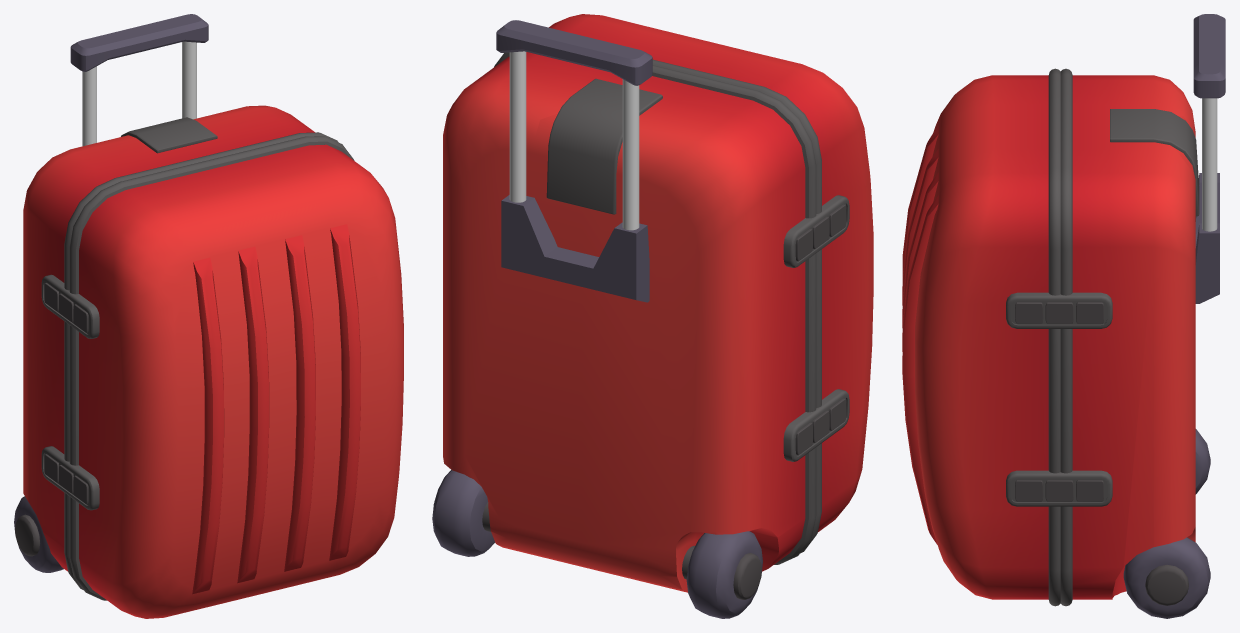
File: Baggage_Red.fbx
The picture shows the model from 3 angles, left to right: view 1: azimuth 30°, elevation 25°; view 2: azimuth 150°, elevation 25°; view 3: azimuth 270°, elevation 25°; orthographic projection. The views are drawn at different scales.
Visible parts, largest first — view 1: Baggage_Red; view 2: Baggage_Red; view 3: Baggage_Red.
Boxes of the visible parts, x1,y1,x2,y2 form: Baggage_Red: [14, 14, 403, 618]; Baggage_Red: [432, 14, 873, 618]; Baggage_Red: [902, 14, 1225, 618].
Size of the model in its own units: 66.35 by 107 by 61.04.
